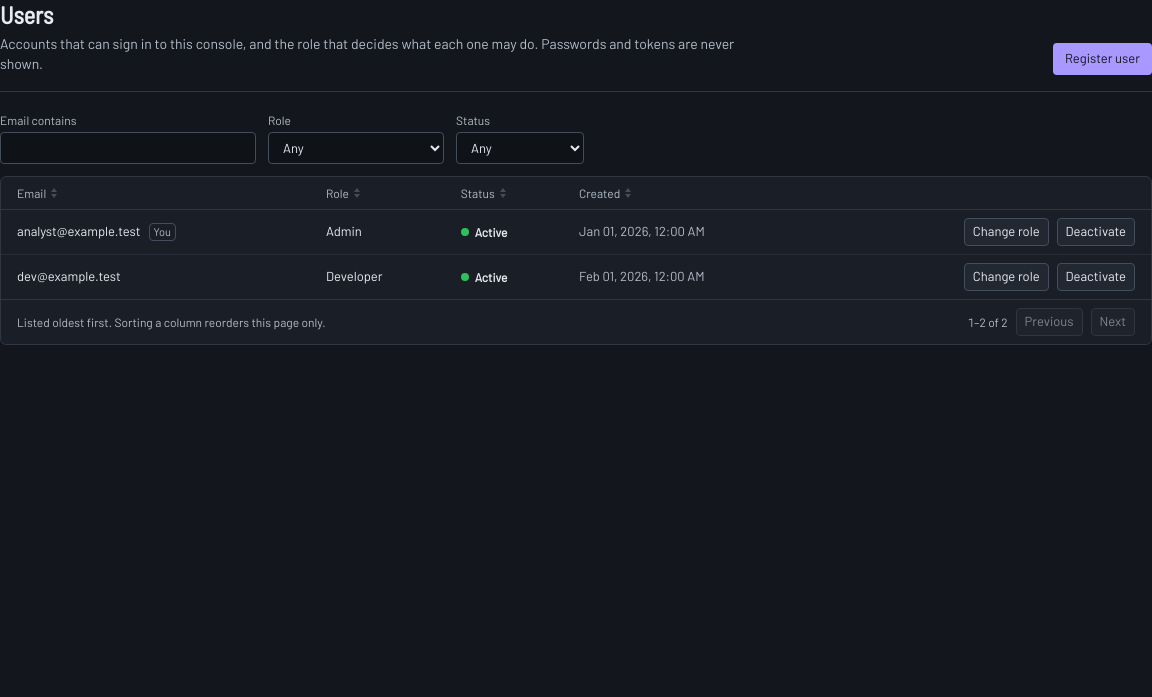
Test: Users › validates the registration form before sending anything
Expected: the text "analyst@example.test" is shown, top-left (17, 222), bottom-right (140, 241)
Click the button "Register user" at (1102, 59), box top-left (1053, 43), bottom-right (1151, 75)
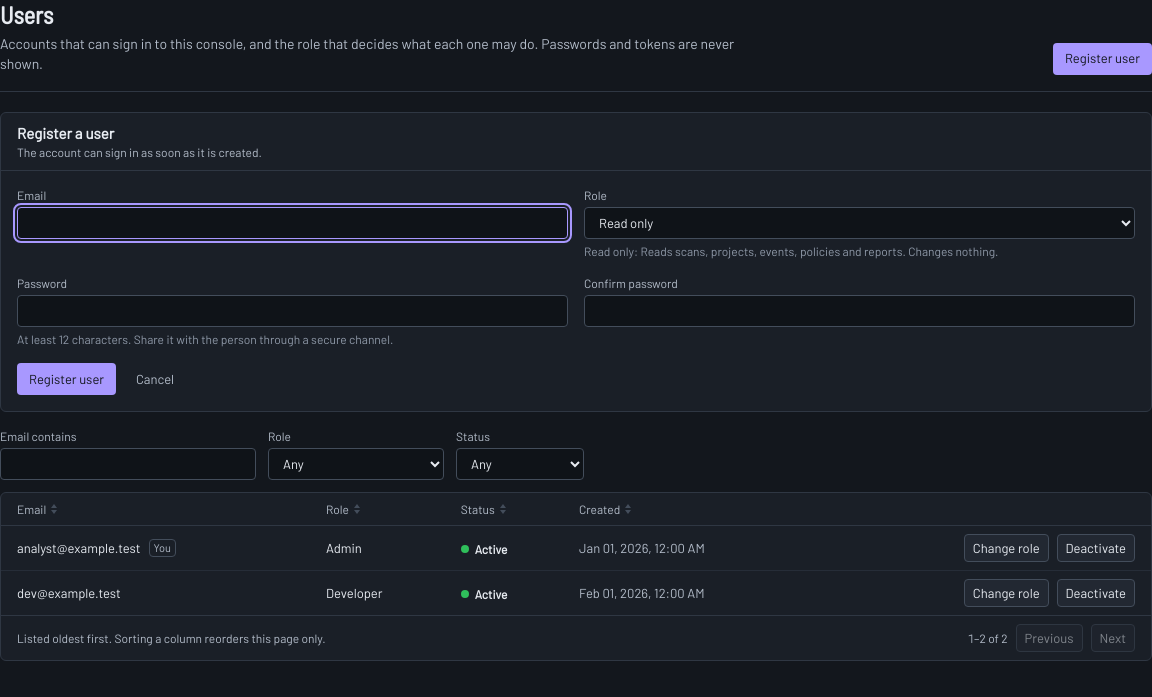
Type "new@example.test" into the field labelled "Email" at (292, 223), box top-left (17, 207), bottom-right (568, 239)
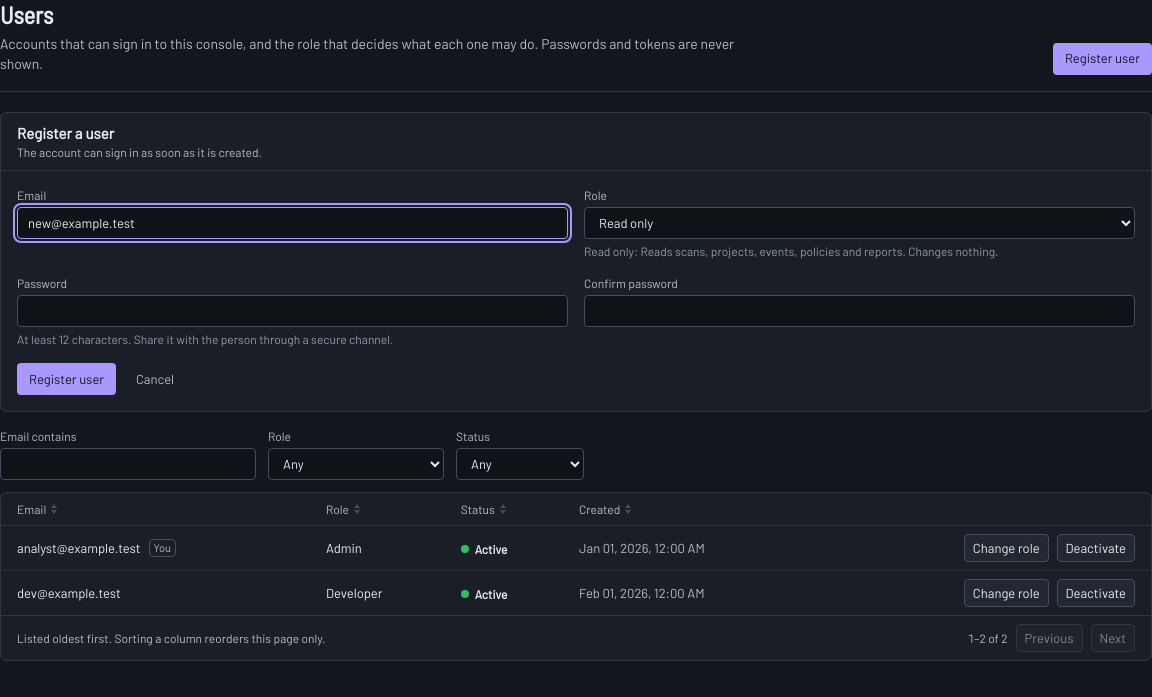
Type "too-short" into the password field labelled "Password" at (292, 311), box top-left (17, 295), bottom-right (568, 327)
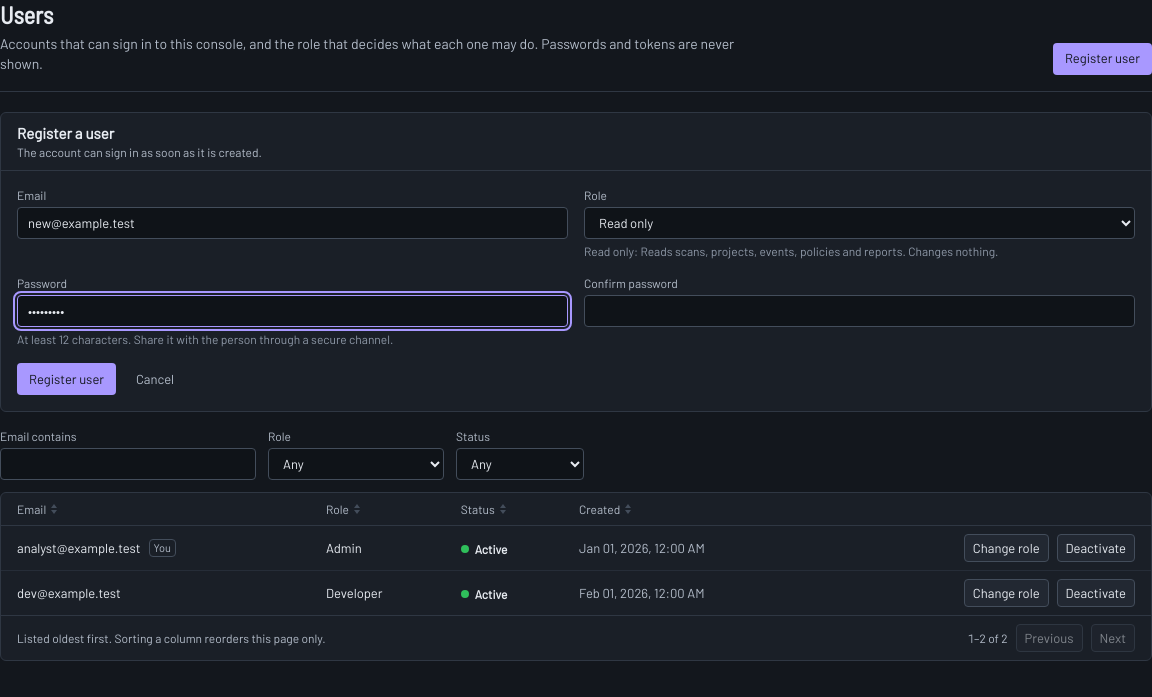
Type "too-short" into the password field labelled "Confirm password" at (860, 311), box top-left (584, 295), bottom-right (1135, 327)
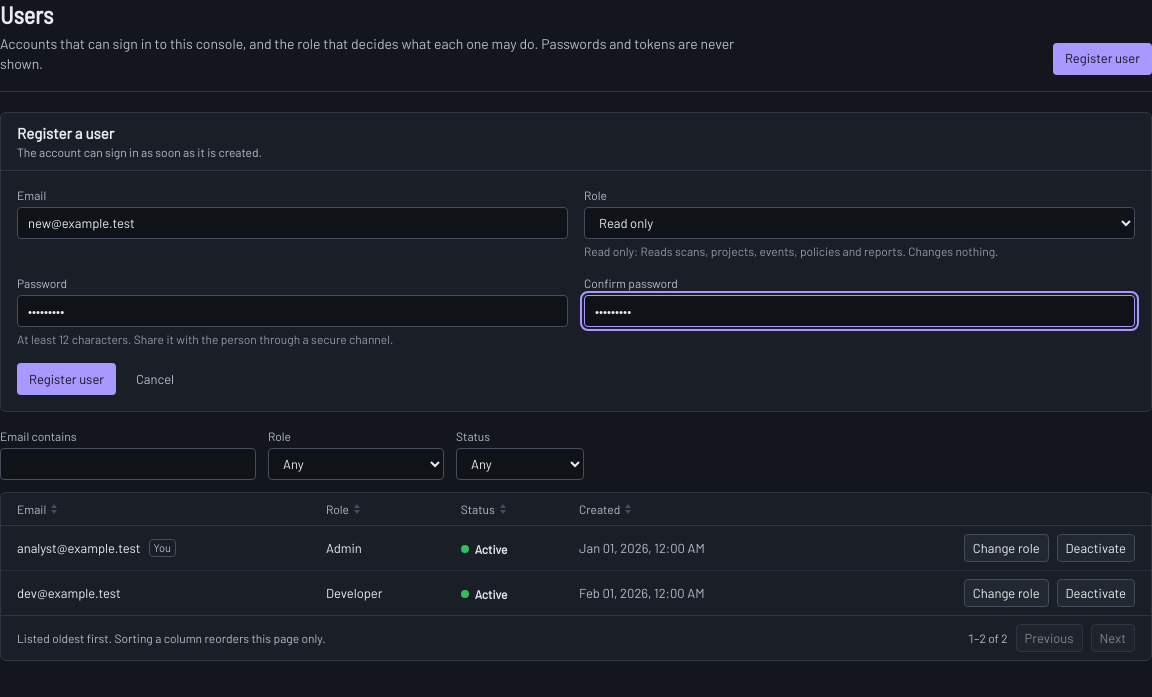
Click the button "Register user" below "At least" at (66, 379), box top-left (17, 363), bottom-right (116, 395)
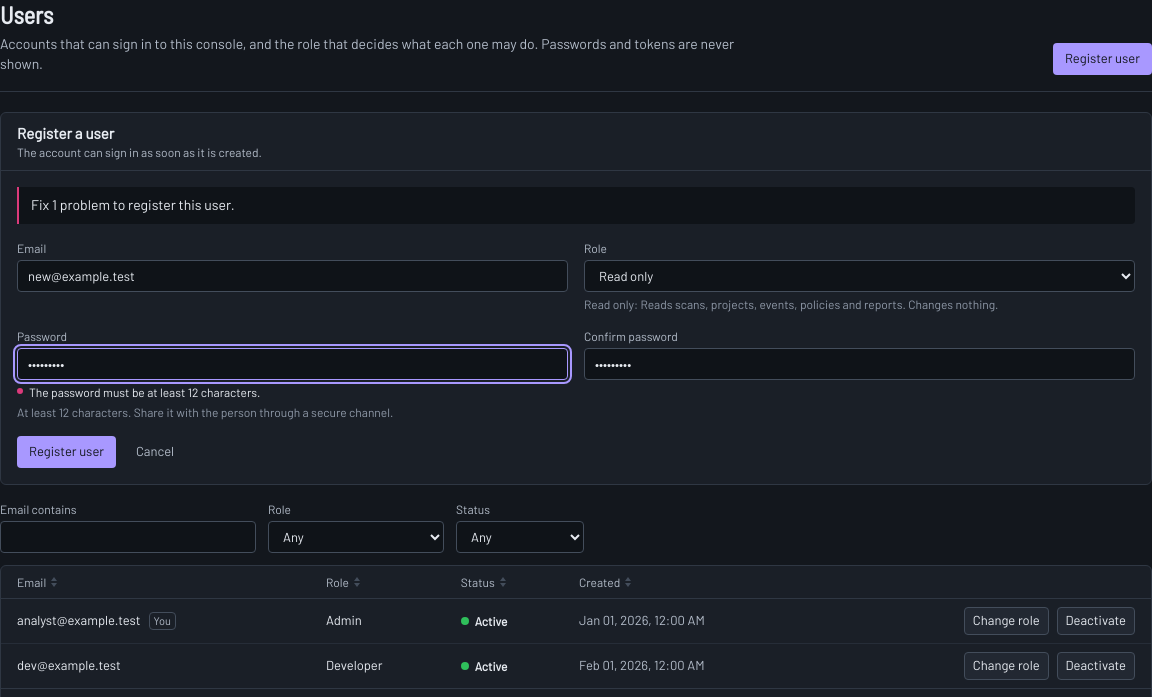
Expected: the message reads "Fix 1 problem to register this user.", top-left (31, 196), bottom-right (235, 213)
